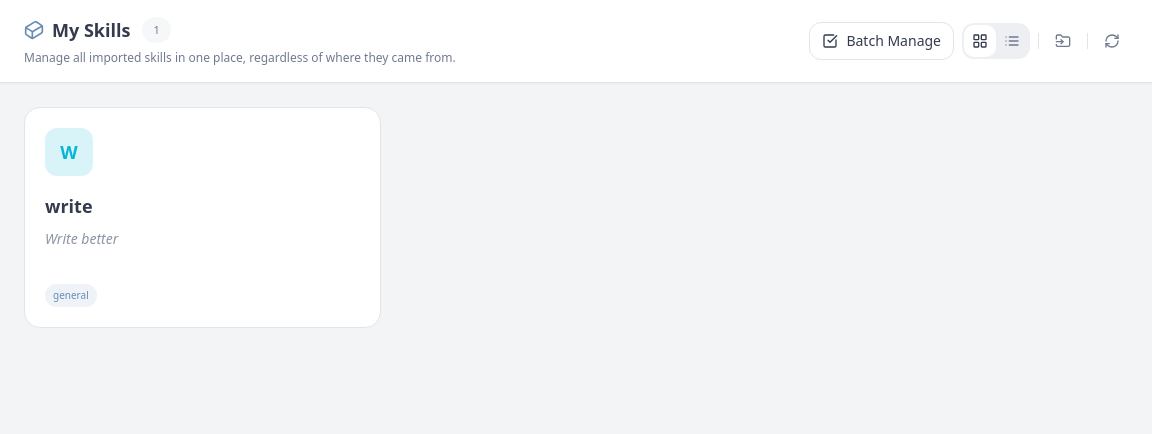
skill ui integration › renders skill manager with real english locale and updates selection summary
Expected: the text "Manage all imported skills in one place, regardless of where they came from." is shown, x1=24 y1=49 x2=456 y2=66
Click the button "Batch Manage" at [882, 41], box x1=809 y1=22 x2=954 y2=60
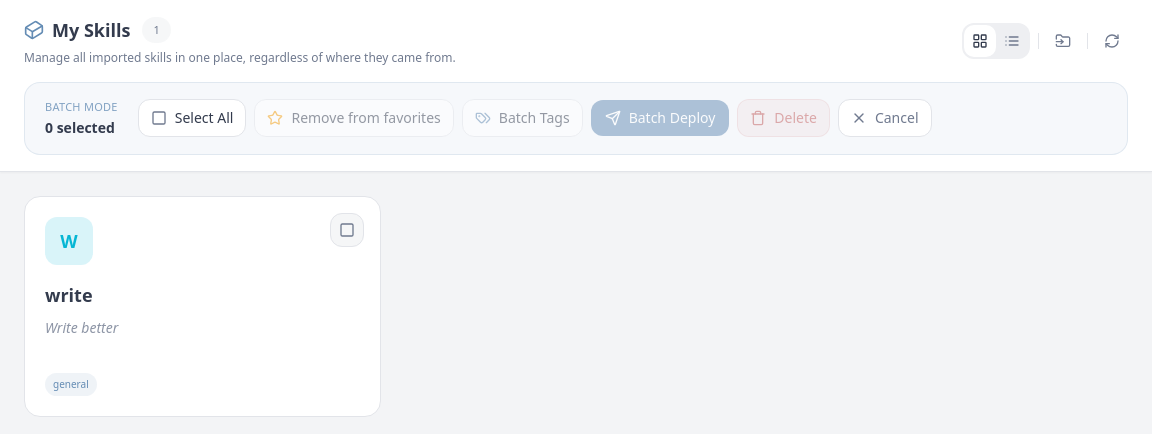
Expected: the text "Batch Mode" is shown, x1=45 y1=99 x2=118 y2=116
Expected: the text "0 selected" is shown, x1=45 y1=118 x2=118 y2=138
Click the button "Select All" at [192, 118], box x1=138 y1=99 x2=246 y2=137
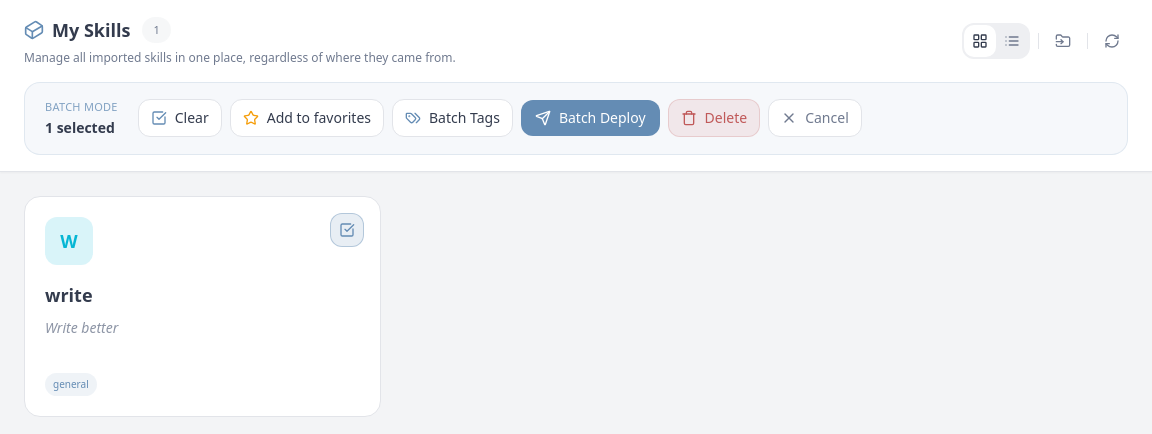
Expected: the button "Batch Deploy" is shown, x1=521 y1=100 x2=660 y2=136
Expected: the text "1 selected" is shown, x1=45 y1=118 x2=118 y2=138
